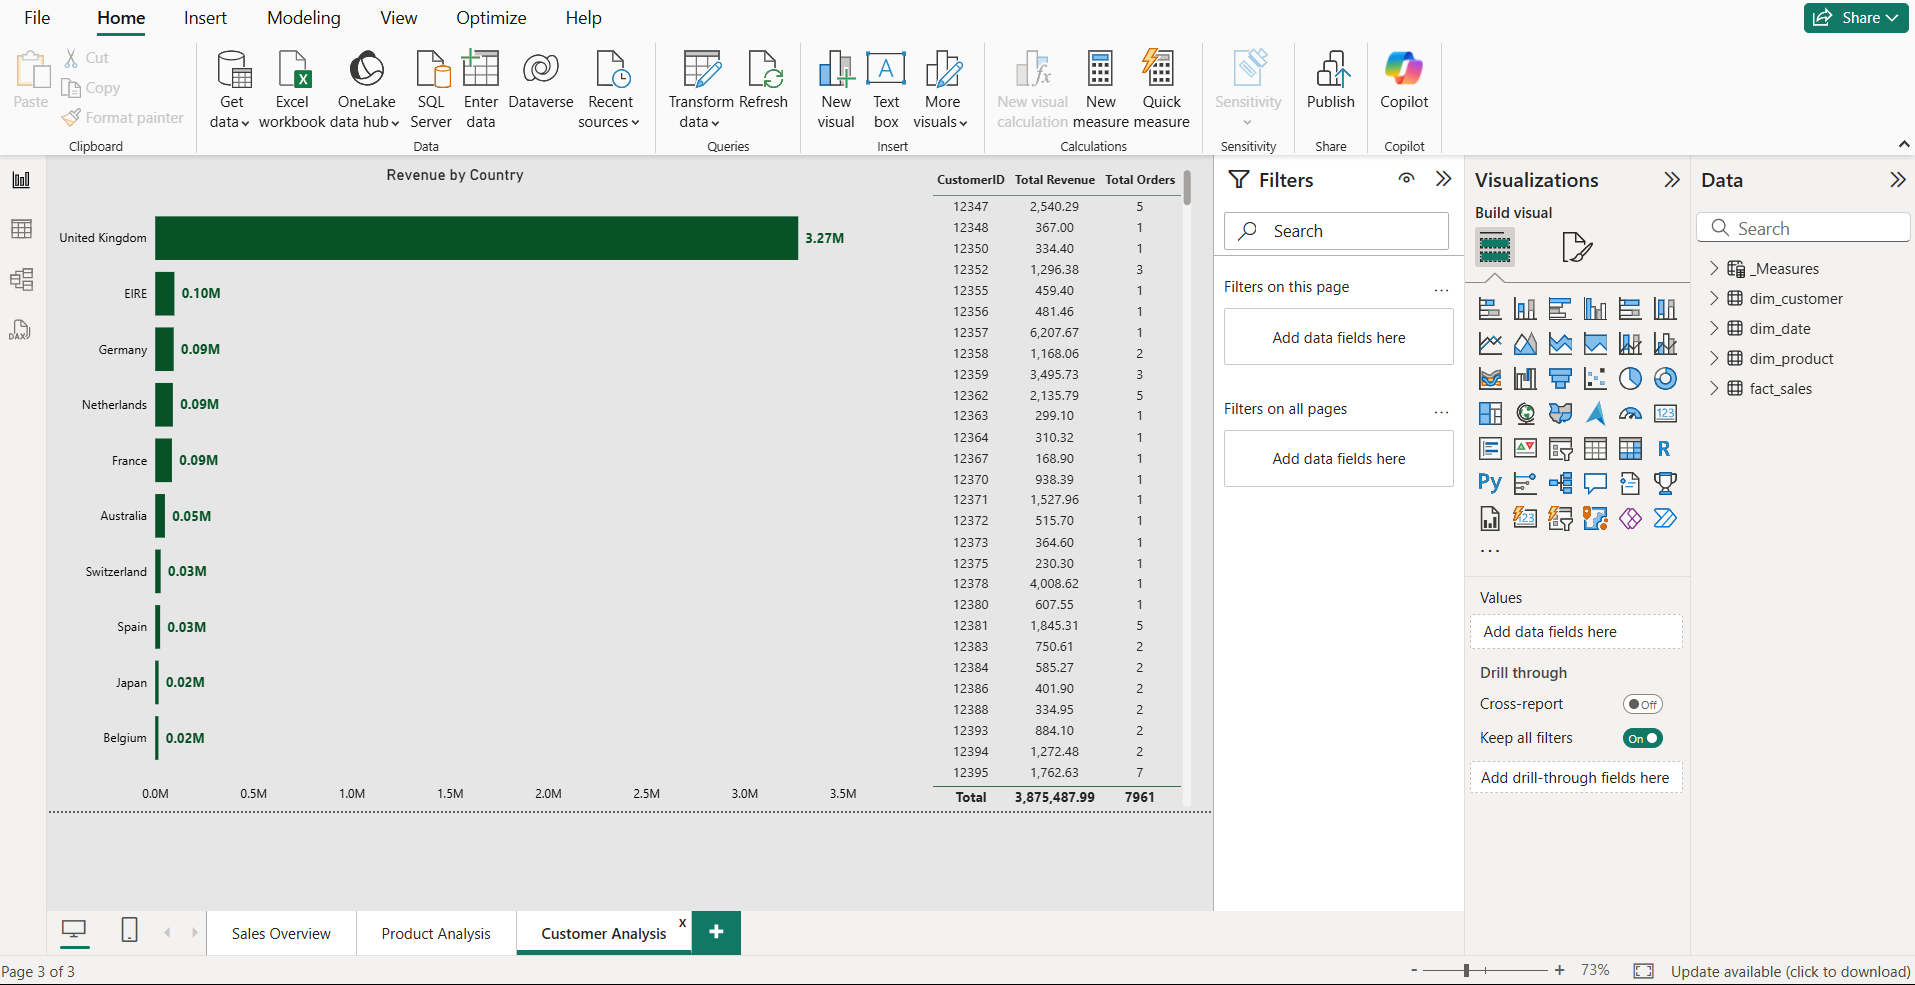

The page's visual inventory and layout, read from the dashboard file:
{"tool":"powerbi","page":{"name":"Customer Analysis","canvas":[1280,720],"ordinal":2},"visuals":[{"type":"tableEx","fields":{"Values":["dim_customer.CustomerID","_Measures.Total Revenue","_Measures.Total Orders"]},"box":[966,11,295,709.4],"z":0},{"type":"clusteredBarChart","title":"Revenue by Country","fields":{"Y":["_Measures.Total Revenue"],"Category":["dim_customer.Country"]},"box":[0,11,896.1,709.4],"z":1000}]}

Visuals, with their boxes on the page's 1280x720 design canvas (x1, y1, x2, y2). These are canvas units, not pixel positions in the 1915x985 screenshot, which may show the page scaled, cropped or inside an application window:
tableEx - dim_customer.CustomerID x _Measures.Total Revenue: l=966, t=11, r=1261, b=720
"Revenue by Country" clusteredBarChart: l=0, t=11, r=896, b=720
